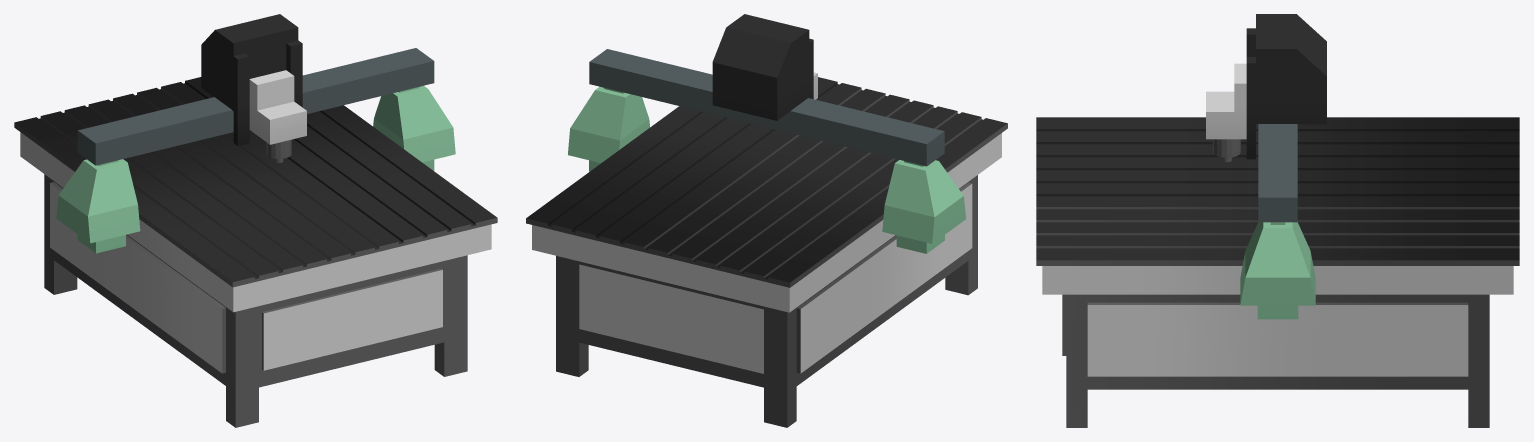
Rendered from Fraiseuse.fbx.
3 views of the same model, side by side, from view 1: azimuth 30°, elevation 25°; view 2: azimuth 150°, elevation 25°; view 3: azimuth 270°, elevation 25° (orthographic). The views are drawn at different scales.
Visible parts, largest first — view 1: Cube.118; view 2: Cube.118; view 3: Cube.118.
Part boxes in pixels (<box>): Cube.118: <box>14,14,497,427</box>; Cube.118: <box>526,14,1007,427</box>; Cube.118: <box>1036,14,1519,427</box>.
Size of the model in its own units: 198 by 205 by 156.
